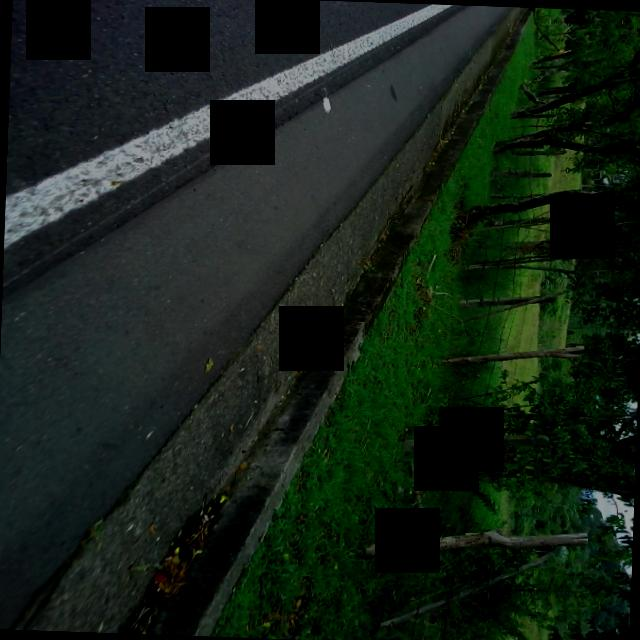DITCH: (0, 0, 532, 640), (0, 0, 513, 640)
